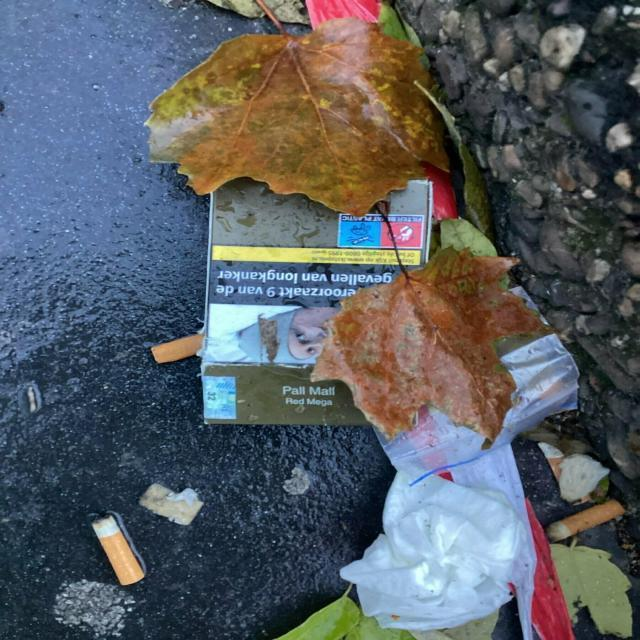Paper: (196, 173, 437, 429)
